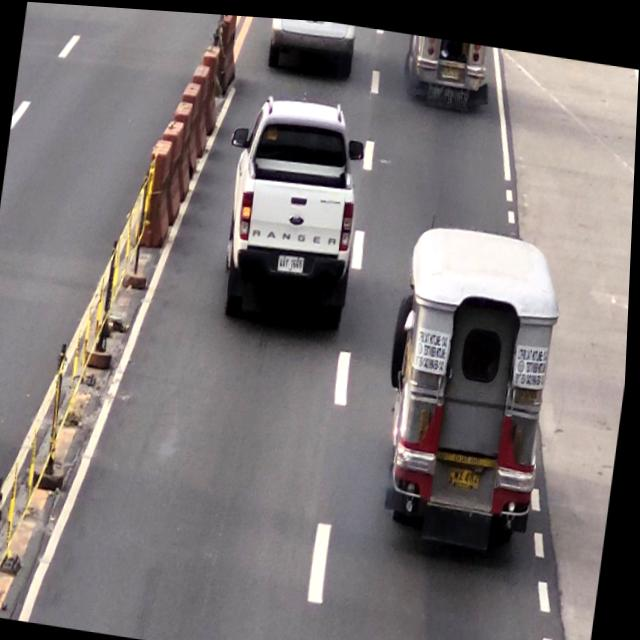Car: (223, 84, 366, 310)
Jeep: (382, 217, 563, 531), (407, 28, 490, 92)
License-Plate: (452, 455, 485, 484), (276, 244, 308, 271)
